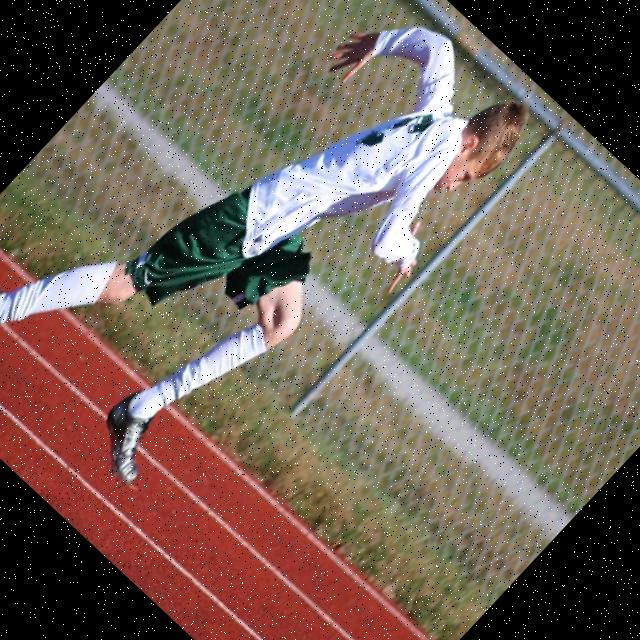Person: (0, 0, 550, 577)
